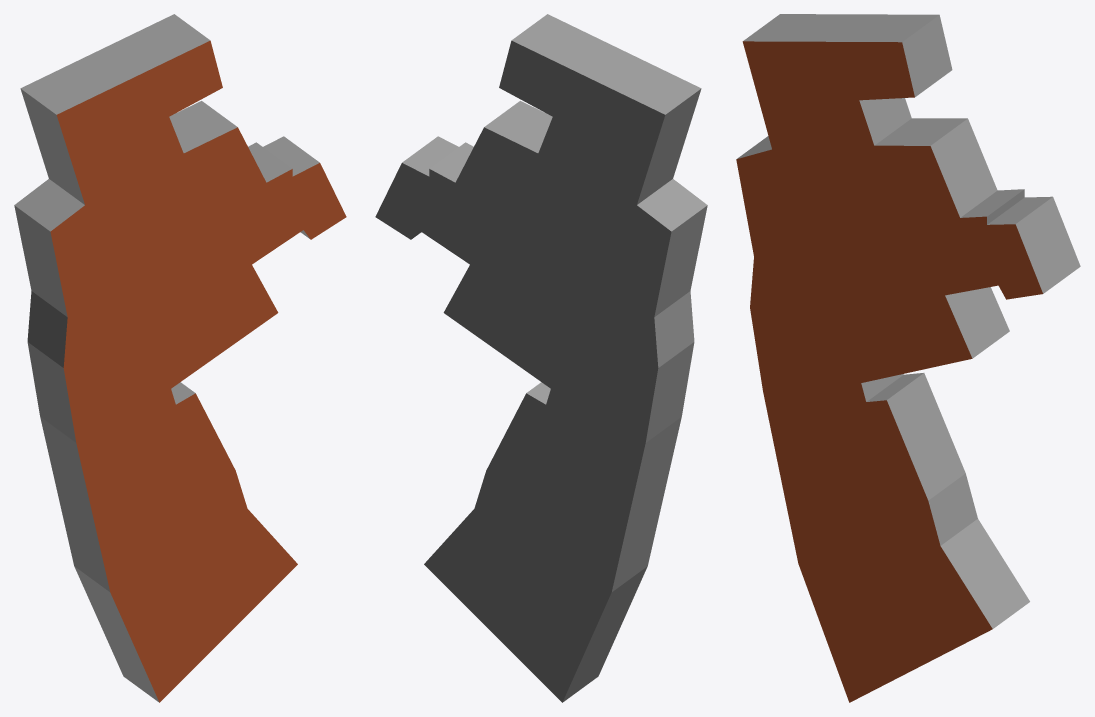
The model's file is construction_4994_assumed_A_Casa_h6m.obj.
3 views of the same model, side by side, from view 1: azimuth 30°, elevation 25°; view 2: azimuth 150°, elevation 25°; view 3: azimuth 330°, elevation 25° (orthographic). The views are drawn at different scales.
Visible parts, largest first — view 1: construction_4994_assumed_A_Casa; view 2: construction_4994_assumed_A_Casa; view 3: construction_4994_assumed_A_Casa.
Boxes of the visible parts, x1,y1,x2,y2 form: construction_4994_assumed_A_Casa: (14,14,346,702); construction_4994_assumed_A_Casa: (375,14,707,702); construction_4994_assumed_A_Casa: (736,14,1080,702).
Size of the model in its own units: 28.36 by 59.48 by 6.
